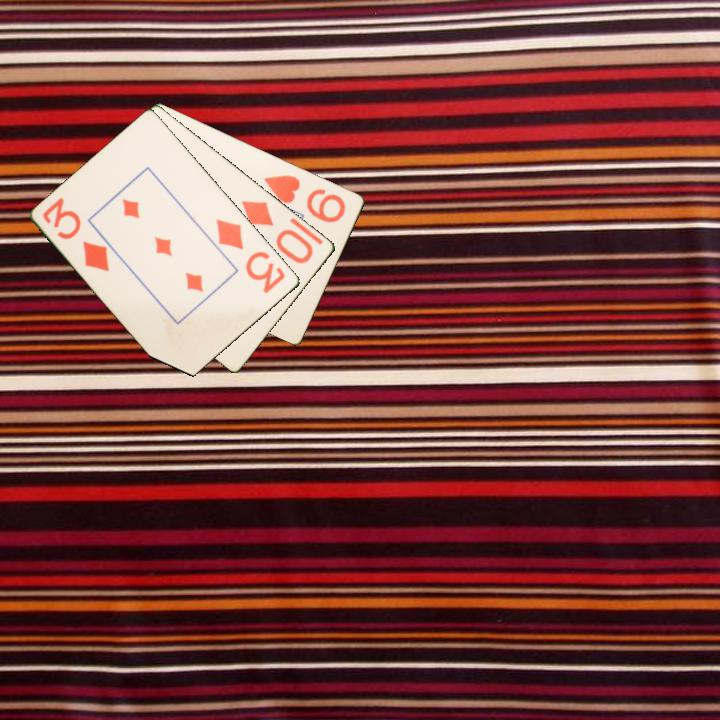10d: (238, 197, 317, 267)
3d: (213, 215, 289, 297), (39, 194, 113, 275)
9h: (261, 171, 349, 226)
